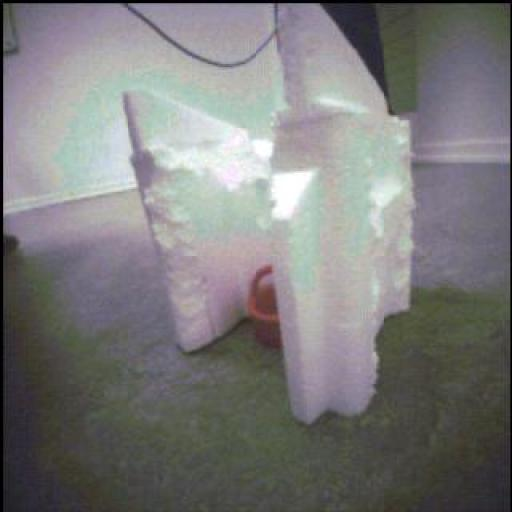Bucket: (246, 266, 280, 352)
